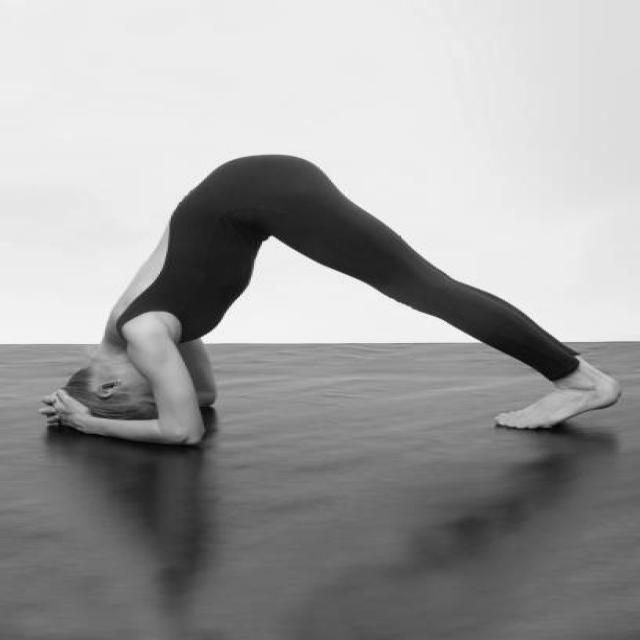Downward-Facing_Dog: (36, 147, 625, 457)
